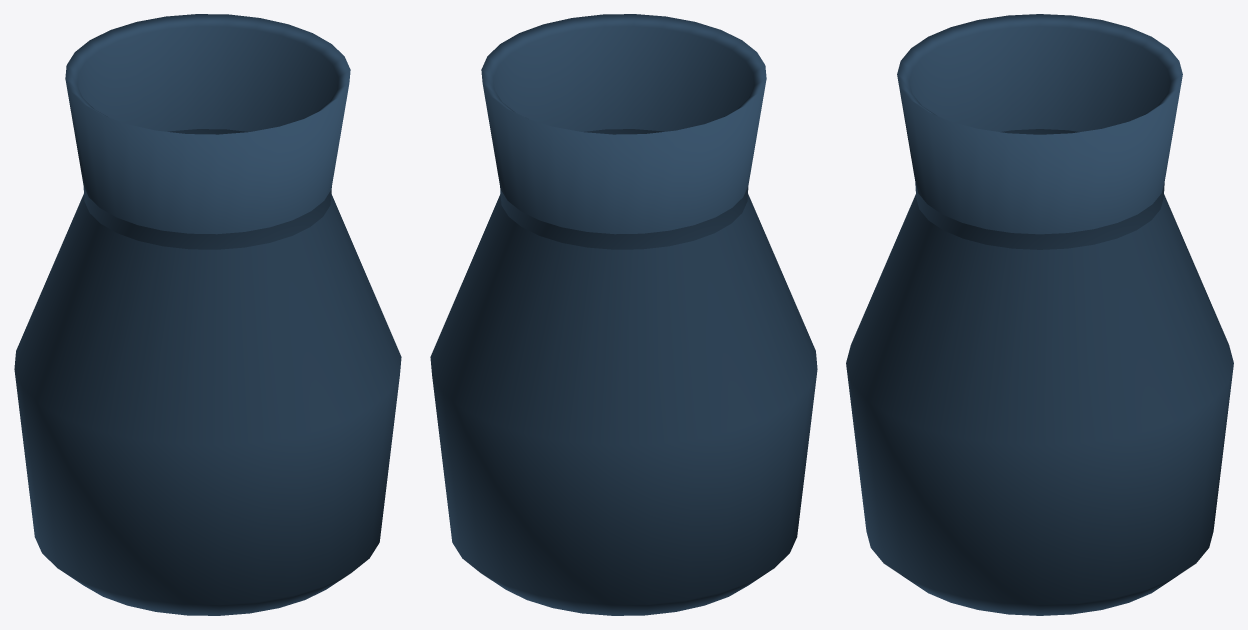
File: i_vase_6_1.glb
3 renders of one model, left to right at view 1: azimuth 30°, elevation 25°; view 2: azimuth 150°, elevation 25°; view 3: azimuth 270°, elevation 25°, orthographic.
Parts seen in each view (by area): view 1: o; view 2: o; view 3: o.
Part boxes in pixels (<box>): o: <box>14,14,401,615</box>; o: <box>430,14,817,615</box>; o: <box>846,14,1233,615</box>.
Size of the model in its own units: 0.19 by 0.26 by 0.19.
